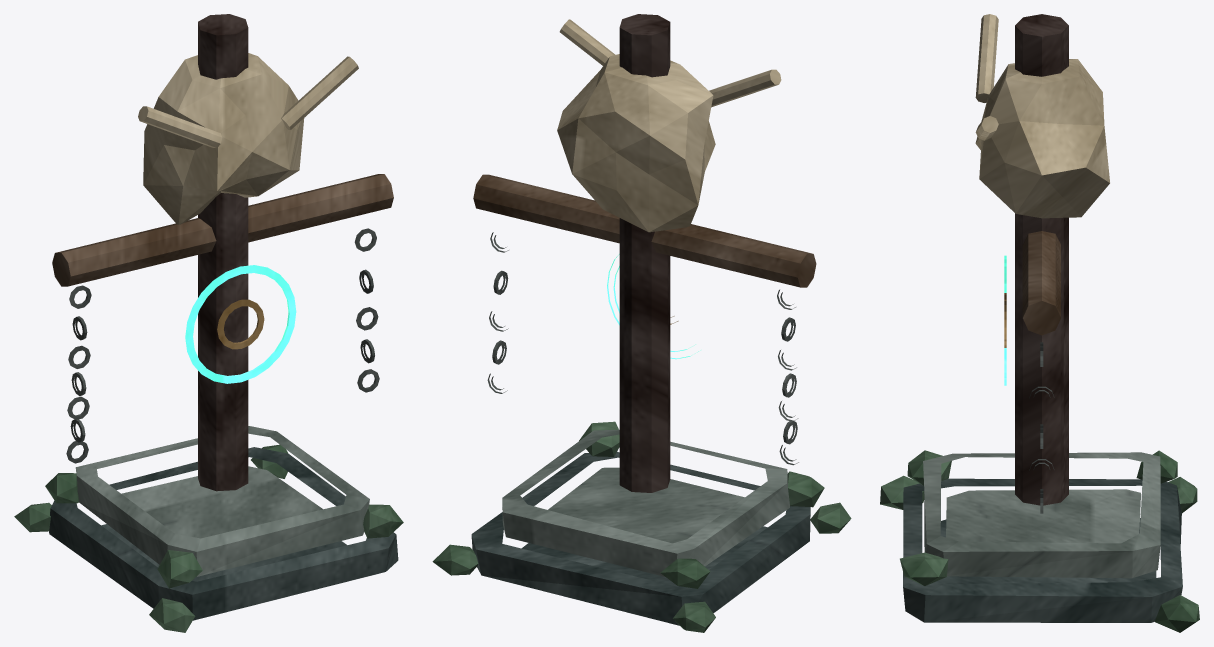
The model's file is 0506_effigy_06.glb.
3 renders of one model, left to right at view 1: azimuth 30°, elevation 25°; view 2: azimuth 150°, elevation 25°; view 3: azimuth 270°, elevation 25°, orthographic. The views are drawn at different scales.
Visible parts, largest first — view 1: bone, stone, stone_dark, wood_dark, wood, moss, iron, glow, brass; view 2: bone, stone, stone_dark, wood_dark, wood, moss, iron; view 3: stone, bone, stone_dark, wood_dark, moss, wood, iron.
Boxes of the visible parts, box(x1,y1,x2,y2) form: bone: box(138, 53, 358, 224); stone: box(75, 426, 369, 576); stone_dark: box(49, 447, 398, 620); wood_dark: box(198, 14, 248, 491); wood: box(52, 174, 393, 286); moss: box(14, 444, 403, 632); iron: box(66, 228, 379, 463); glow: box(185, 265, 296, 383); brass: box(217, 299, 264, 349); bone: box(557, 19, 781, 232); stone: box(502, 429, 789, 576); stone_dark: box(471, 452, 810, 625); wood_dark: box(619, 14, 670, 492); wood: box(473, 174, 816, 287); moss: box(432, 421, 851, 632); iron: box(487, 232, 798, 465); stone: box(923, 452, 1160, 578); bone: box(975, 14, 1109, 218); stone_dark: box(903, 478, 1182, 622); wood_dark: box(1015, 14, 1068, 505); moss: box(880, 450, 1199, 632); wood: box(1022, 231, 1060, 335); iron: box(1029, 342, 1054, 513).
Bounding box in the file's own units: 2 × 3.12 × 1.67.
9 materials, 9 textured.
